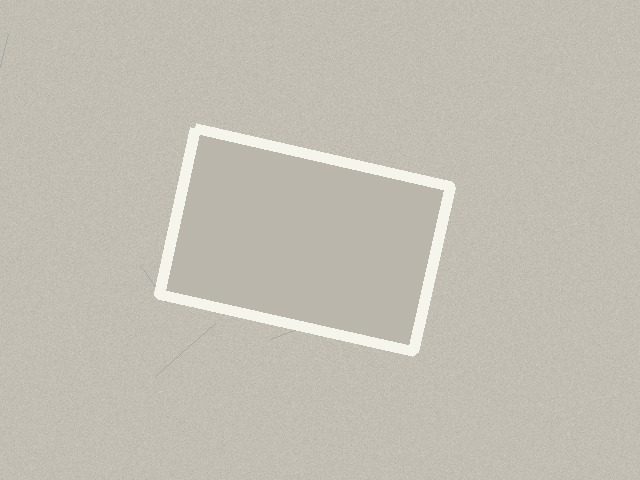parking_area: (159, 128, 450, 351)
